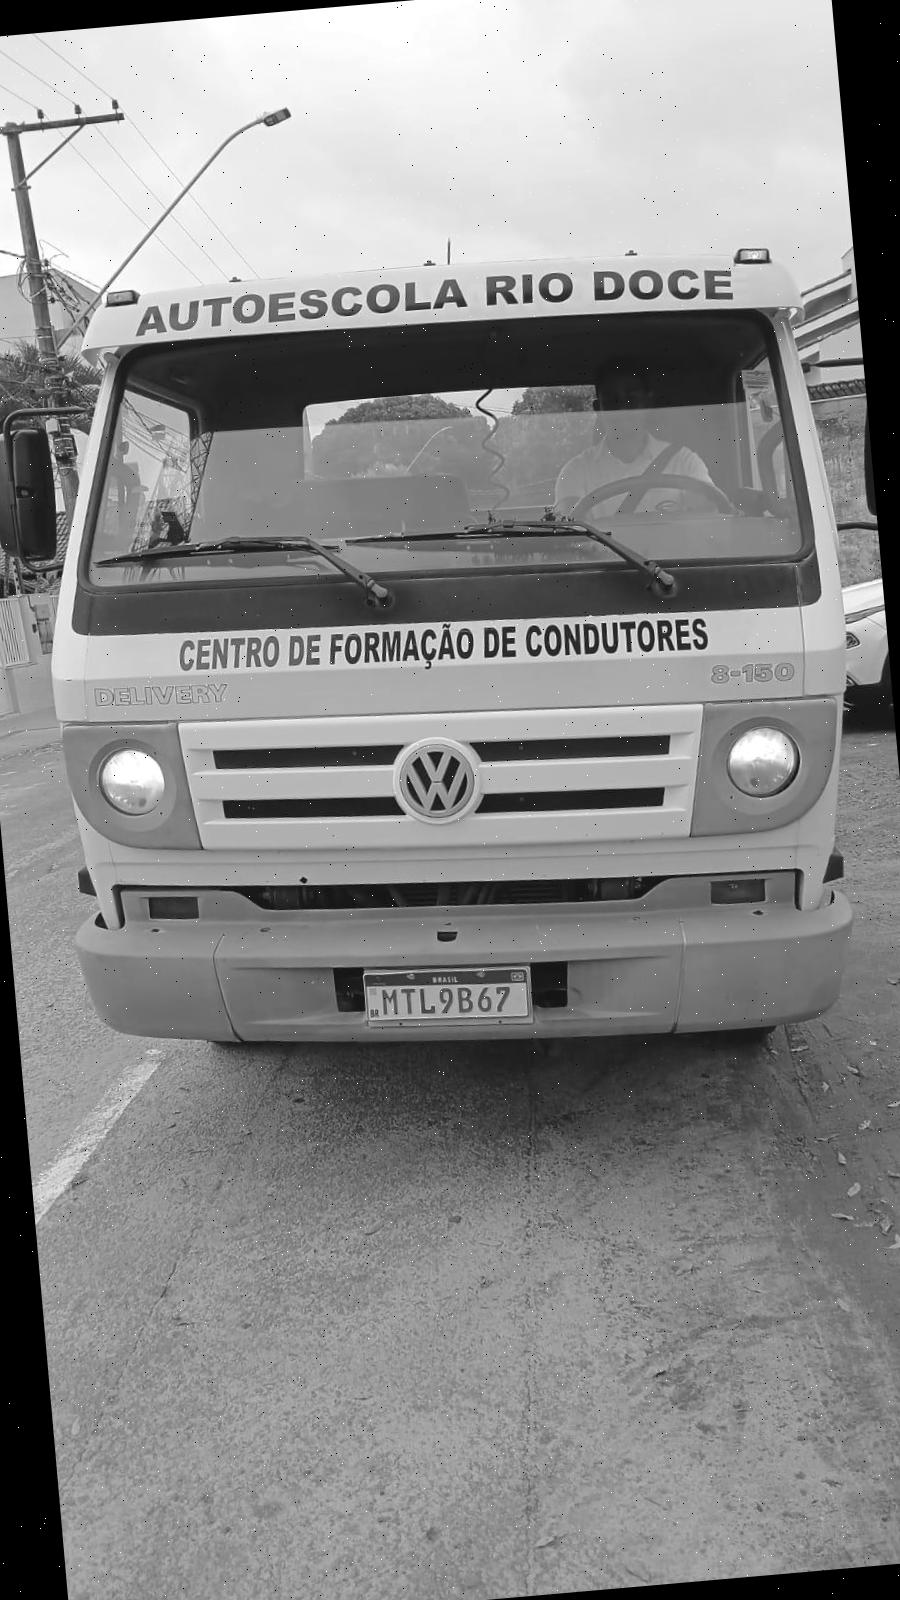placa_mercosul: (363, 967, 532, 1027)
